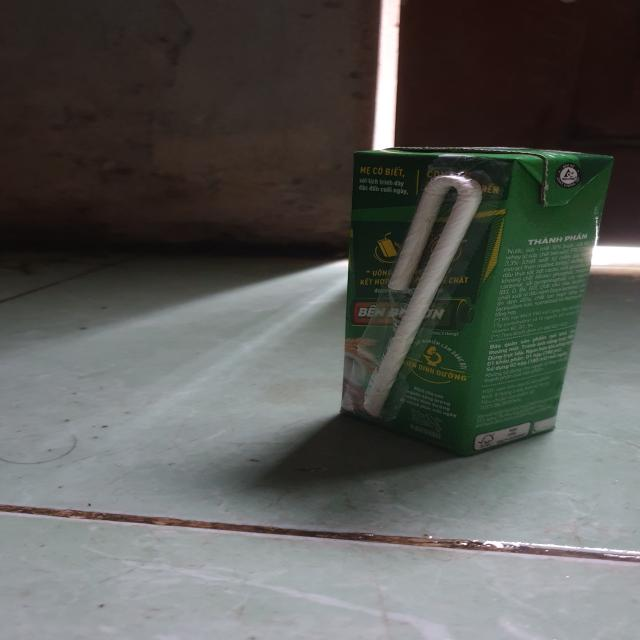Milo: (345, 149, 615, 458)
